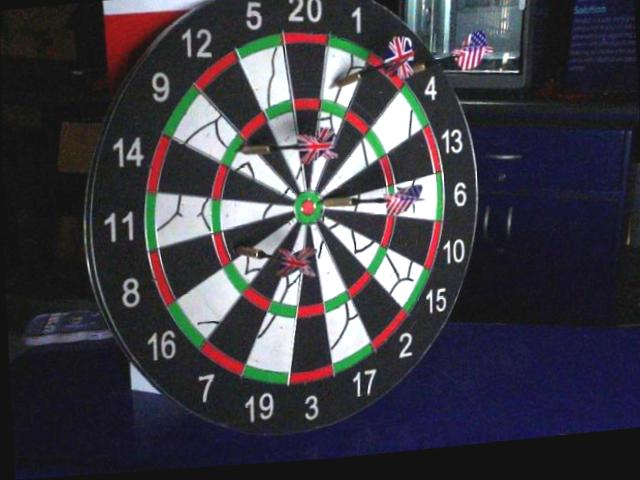bullseye: (300, 201, 322, 222)
single_1: (324, 52, 364, 103)
single_8: (227, 213, 292, 258)
triple_9: (222, 137, 246, 167)
